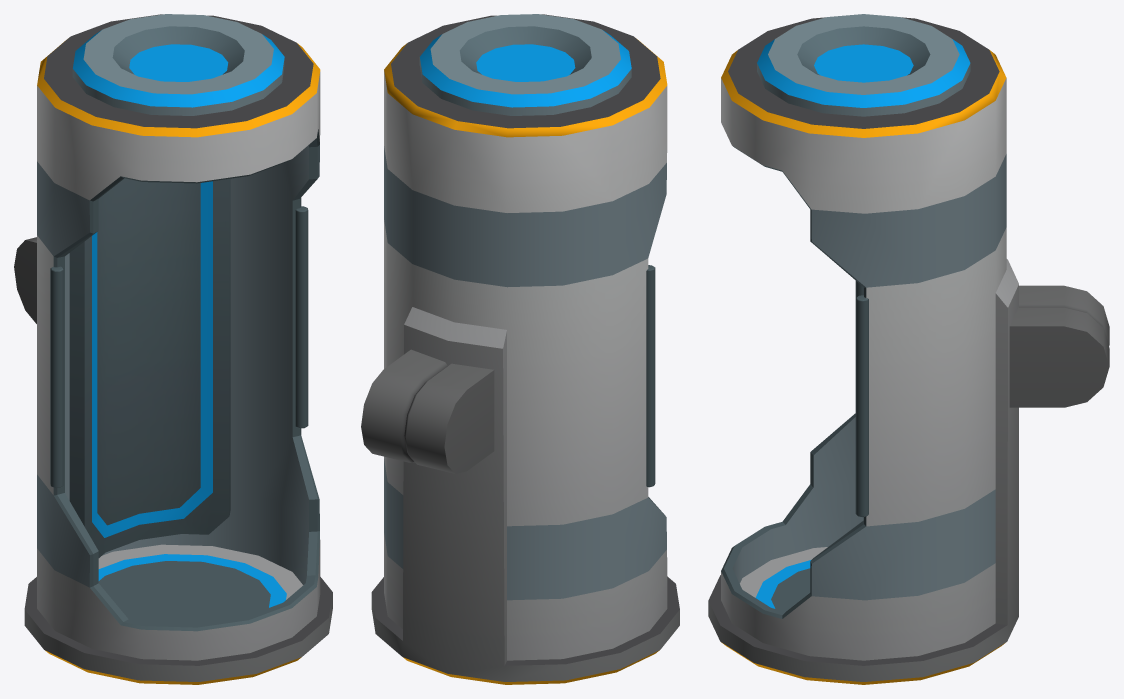
The model's file is Capsule_013_body_001.fbx.
The picture shows the model from 3 angles, left to right: view 1: azimuth 30°, elevation 25°; view 2: azimuth 150°, elevation 25°; view 3: azimuth 270°, elevation 25°; orthographic projection.
Parts seen in each view (by area): view 1: Сapsule_013_body_001; view 2: Сapsule_013_body_001; view 3: Сapsule_013_body_001.
Boxes of the visible parts, x1,y1,x2,y2 form: Сapsule_013_body_001: (14, 14, 332, 684); Сapsule_013_body_001: (361, 14, 679, 684); Сapsule_013_body_001: (708, 14, 1109, 684).
Bounding box in the file's own units: 136 × 176 × 283.
